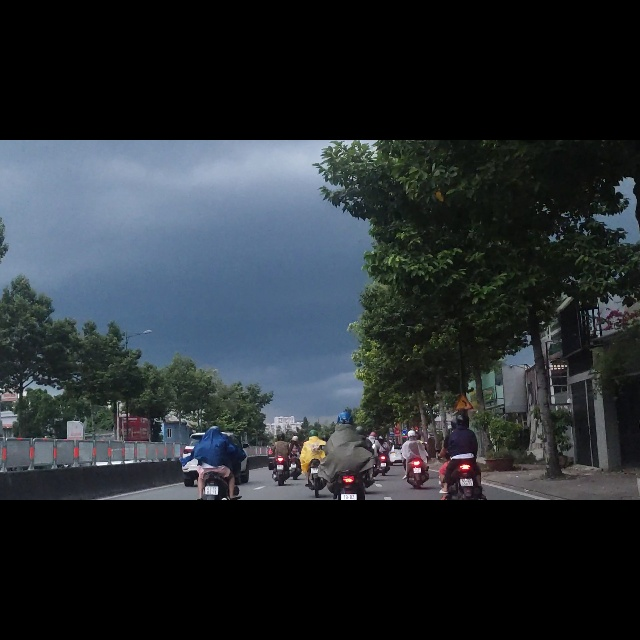bien_hieu_lenh: (453, 450, 474, 480)
